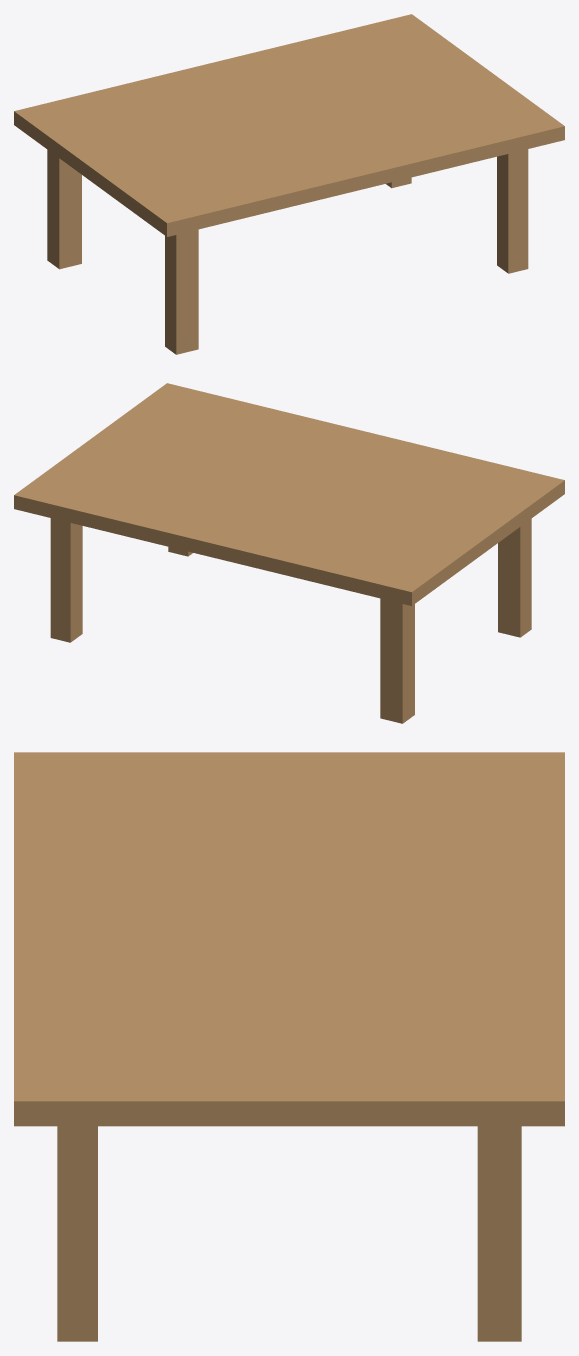
File: desk.gltf
The picture shows the model from 3 angles, top to bottom: view 1: azimuth 30°, elevation 25°; view 2: azimuth 150°, elevation 25°; view 3: azimuth 270°, elevation 25°; orthographic projection. The views are drawn at different scales.
Parts seen in each view (by area): view 1: Cube; view 2: Cube; view 3: Cube.
Part boxes in pixels (x1,y1,x2,y2): Cube: [14, 14, 564, 354]; Cube: [14, 383, 564, 723]; Cube: [14, 752, 564, 1341].
Size of the model in its own units: 6 by 2.1 by 4.
